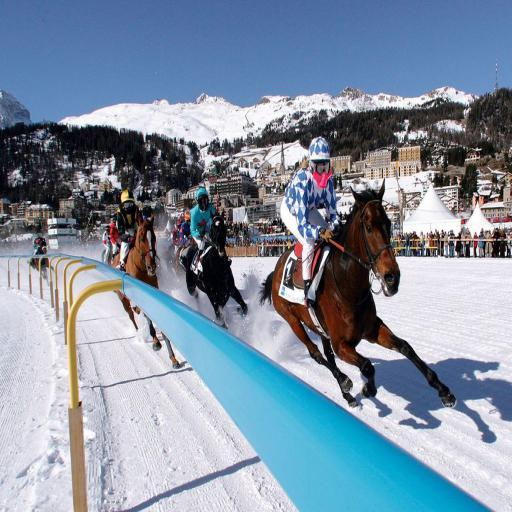Horse: (252, 175, 458, 407), (114, 212, 180, 370), (184, 208, 248, 328), (27, 238, 56, 285), (172, 245, 185, 280), (164, 244, 176, 273), (100, 246, 116, 266)
